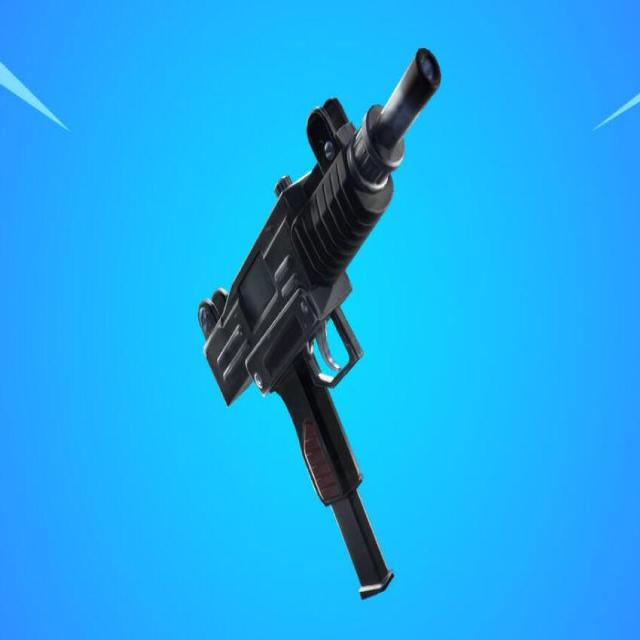weapon: (197, 44, 443, 604)
